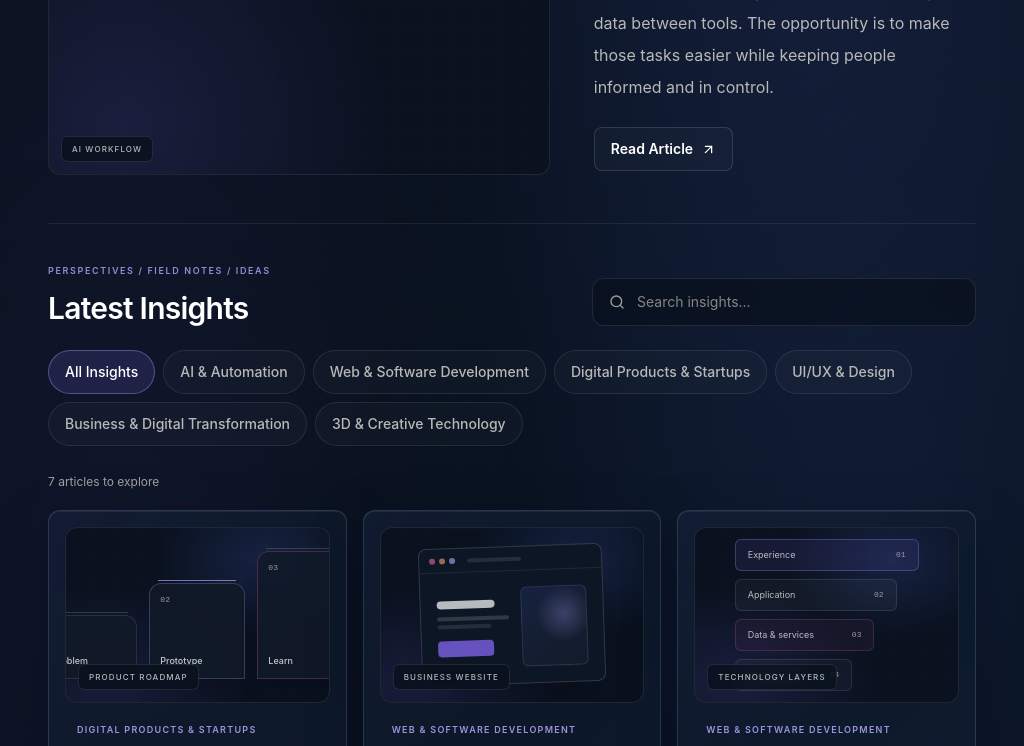
Test: <InsightsOverview /> › combines category and search filters and can reset them
This screenshot has width=1024, height=746.
(page scrolled)
Click the button "AI & Automation" at x=234, y=372, box [163,350,305,394]
(page scrolled)
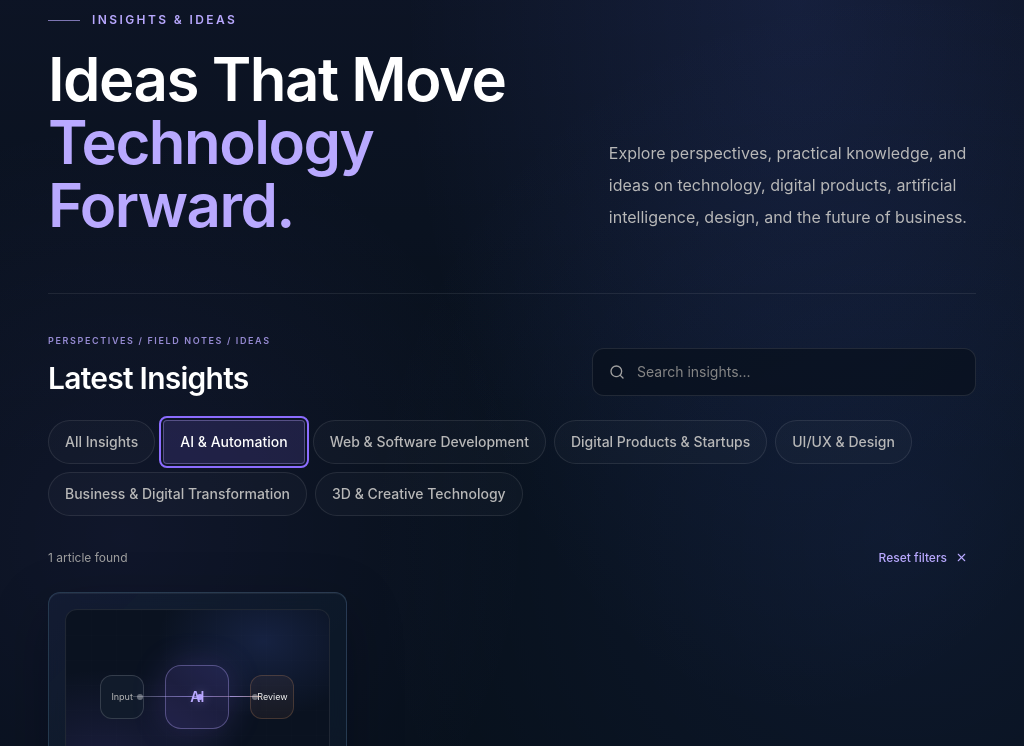
Type "MVP" into the search field labelled "Search insights" at x=798, y=372, box [637,354,959,390]
(page scrolled)
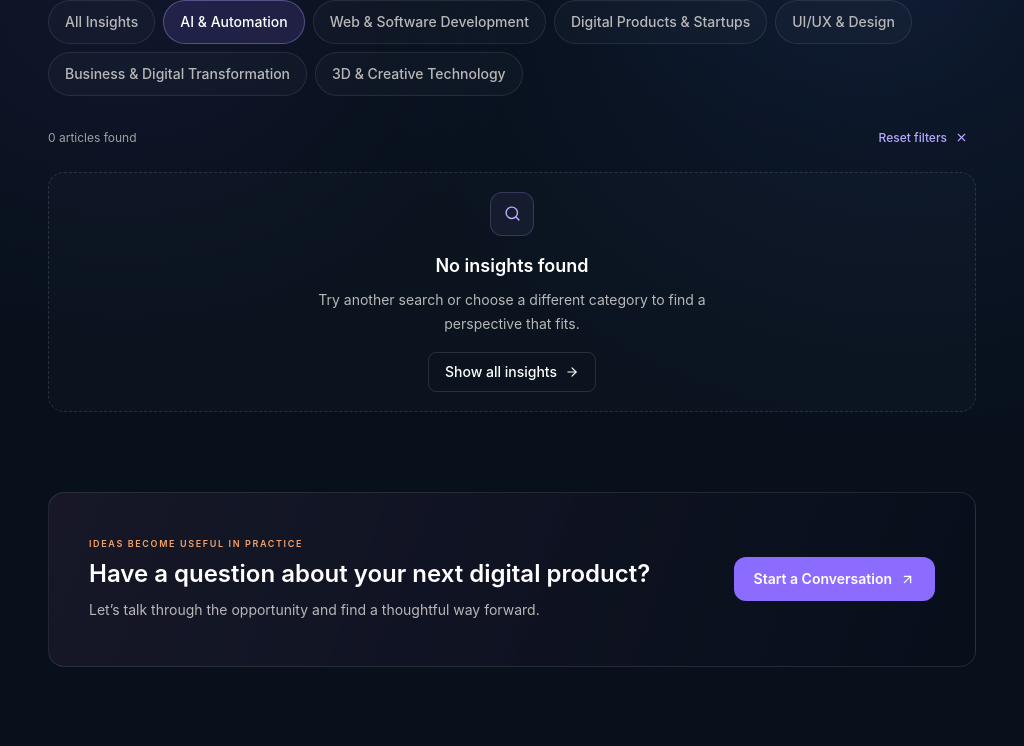
Check: the heading "No insights found" is shown, box [435,252,589,280]
Click the button "Show all insights" at x=512, y=372, box [428,352,596,392]
(page scrolled)
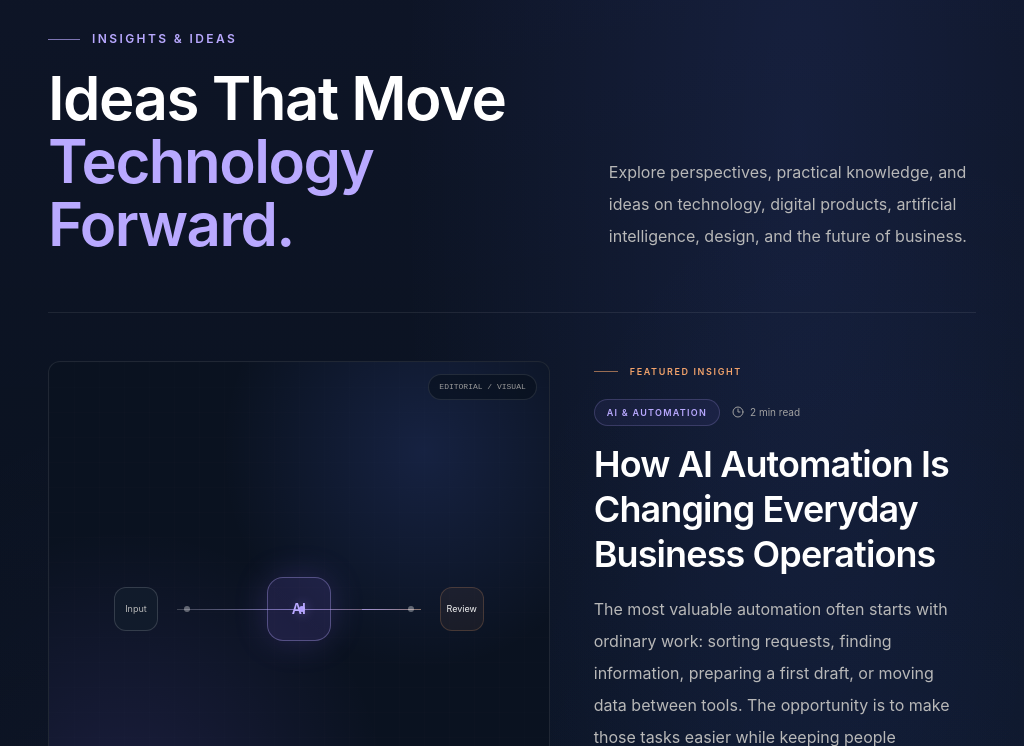
Check: the text "Featured insight" is shown, box [630,366,742,377]
